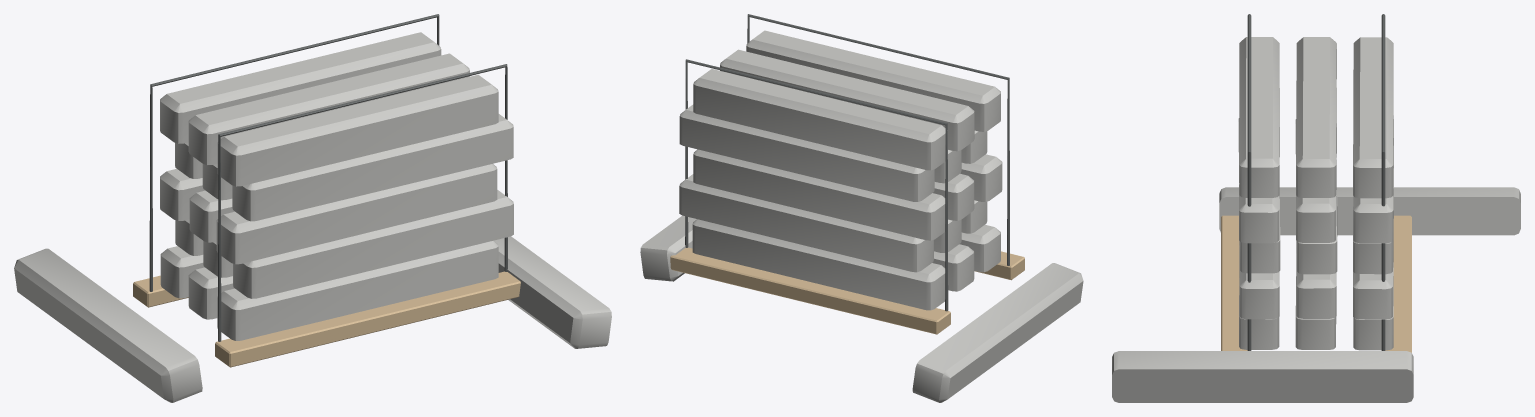
The model's file is garden-centre-and-florist-edging-stone-stack-406d7c52__17789.glb.
3 renders of one model, left to right at view 1: azimuth 30°, elevation 25°; view 2: azimuth 150°, elevation 25°; view 3: azimuth 270°, elevation 25°, orthographic. The views are drawn at different scales.
Visible parts, largest first — view 1: edging-stone-stack; view 2: edging-stone-stack; view 3: edging-stone-stack.
Boxes of the visible parts, left/top/right/bottom form: edging-stone-stack: left=14, top=14, right=611, bottom=402; edging-stone-stack: left=640, top=14, right=1083, bottom=402; edging-stone-stack: left=1112, top=14, right=1520, bottom=402.
Bounding box in the file's own units: 1.33 × 0.792 × 1.22.
